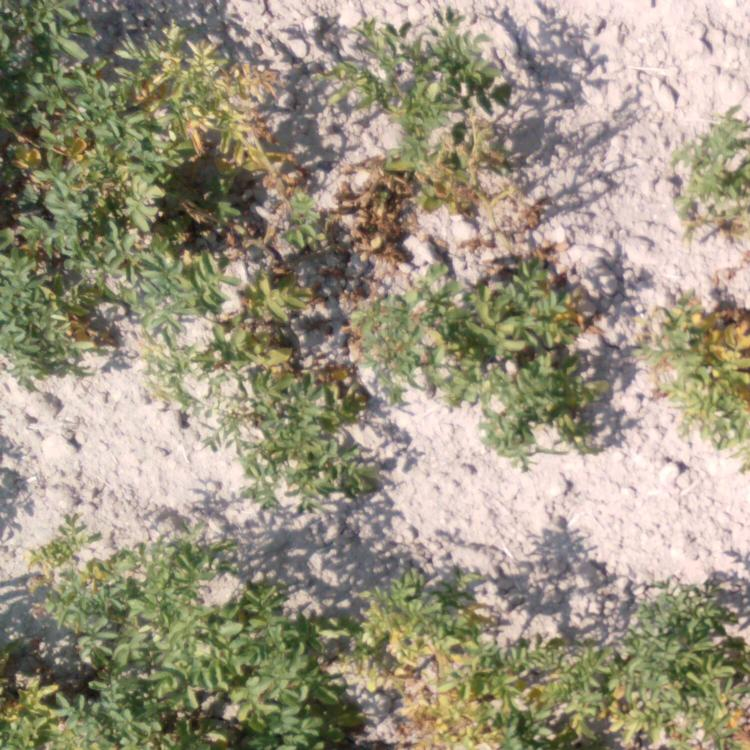healthy: (102, 621, 330, 750), (35, 528, 289, 605), (330, 22, 523, 100), (12, 636, 92, 750)
stressed: (469, 224, 641, 447), (1, 201, 212, 353), (533, 605, 737, 750), (343, 590, 524, 750), (158, 1, 312, 189), (1, 15, 143, 183), (232, 340, 365, 499), (643, 299, 750, 465), (233, 199, 357, 324), (353, 116, 444, 253), (361, 261, 462, 380), (666, 102, 750, 238), (456, 112, 536, 222)
